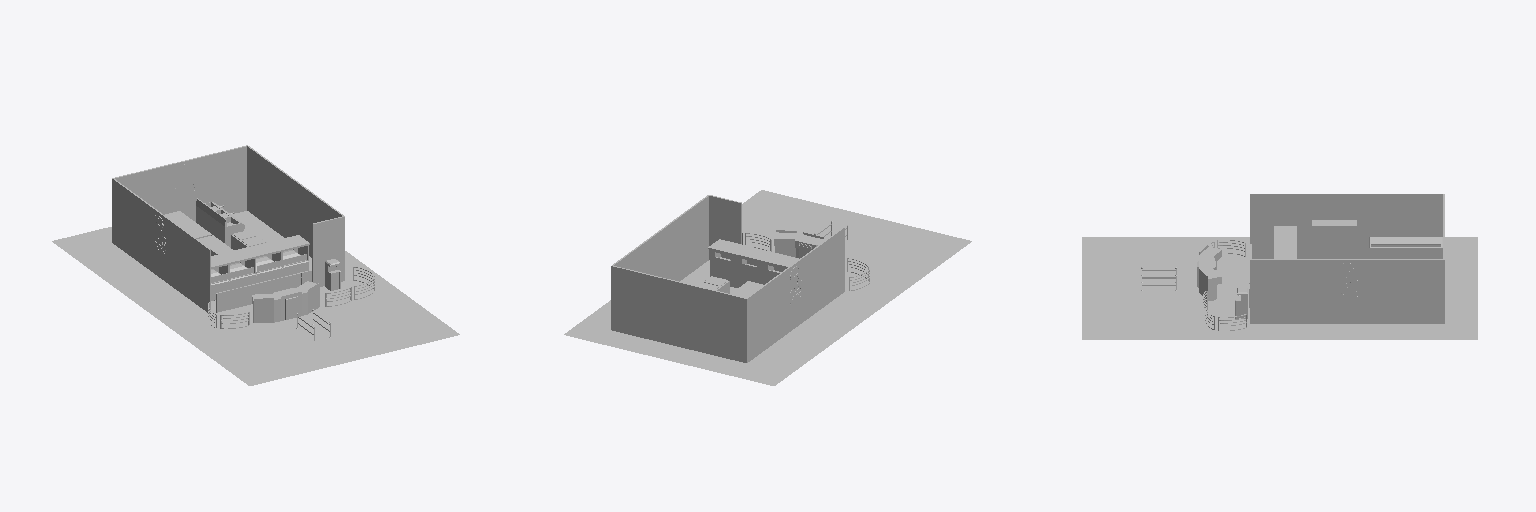
The model's file is KFC Stand.obj.
The picture shows the model from 3 angles: view 1: azimuth 30°, elevation 25°; view 2: azimuth 150°, elevation 25°; view 3: azimuth 270°, elevation 25°; orthographic projection.
Parts seen in each view (by area): view 1: Mesh (8), Mesh (9), Mesh (10), Mesh (2), Mesh (5), Mesh (6); view 2: Mesh (9), Mesh (8), Mesh (10), Mesh (2); view 3: Mesh (8), Mesh (9), Mesh (11), Mesh, Mesh (2), Mesh (10).
Part boxes in pixels (x1,y1,x2,y2): Mesh (8): (52,164,459,385); Mesh (9): (112,145,374,340); Mesh (10): (211,235,309,300); Mesh (2): (216,270,319,322); Mesh (5): (196,198,244,247); Mesh (6): (165,211,233,255); Mesh (9): (611,195,869,362); Mesh (8): (564,190,971,385); Mesh (10): (708,239,798,287); Mesh (2): (747,230,824,262); Mesh (8): (1082,237,1477,339); Mesh (9): (1141,194,1444,330); Mesh (11): (1312,220,1356,258); Mesh: (1369,237,1442,258); Mesh (2): (1197,242,1249,307); Mesh (10): (1274,226,1296,258).
Size of the model in its own units: 27.1 by 7.93 by 44.1.